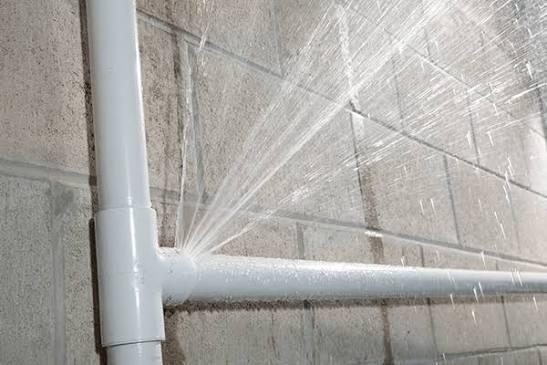pipe burst: (167, 0, 546, 266)
